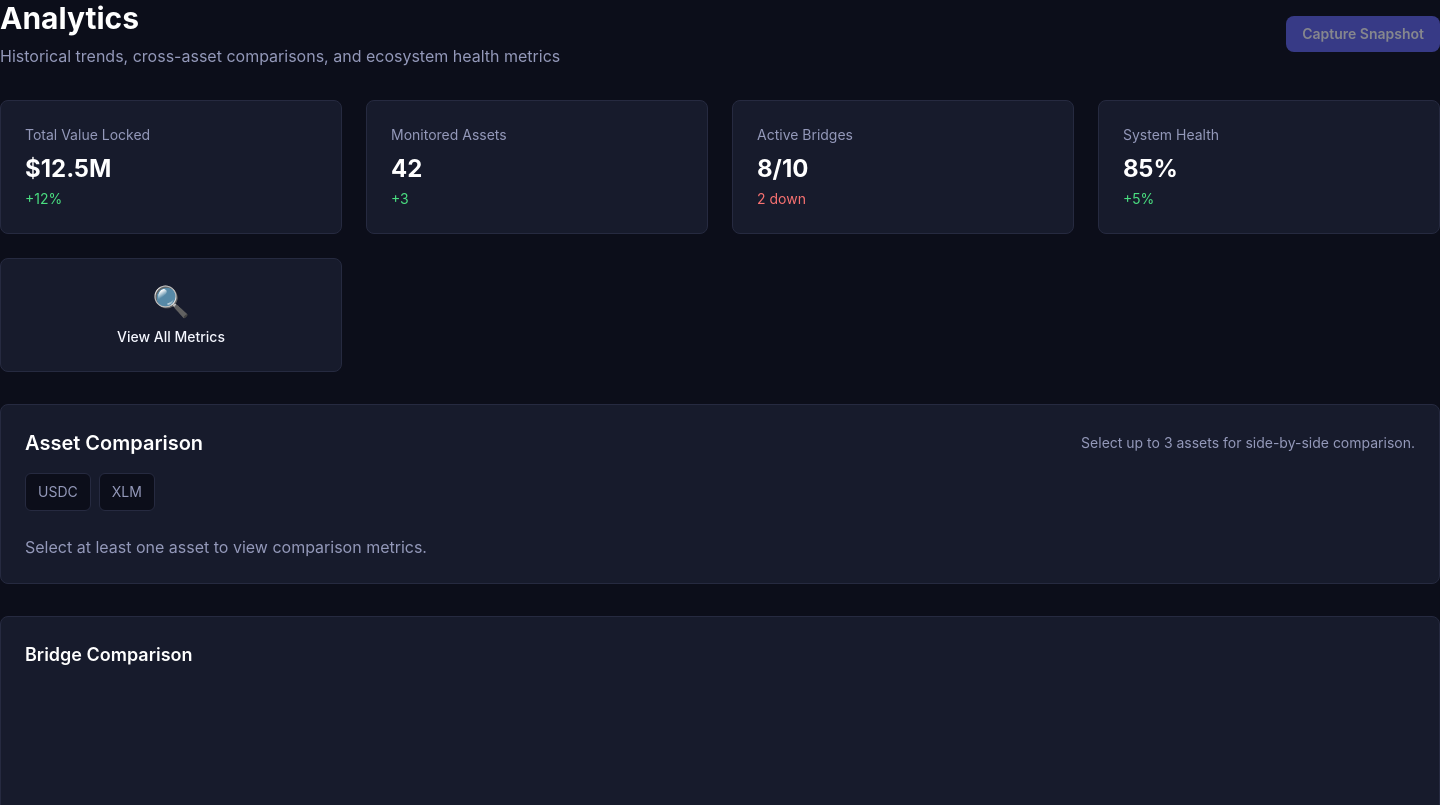
Test case: Analytics › renders comparison cards for selected assets
The width and height of the screenshot is (1440, 805).
Expected: the heading "Asset Comparison" is shown, [25,429,203,457]
Click the button "USDC" at (58, 492), box [25,473,91,511]
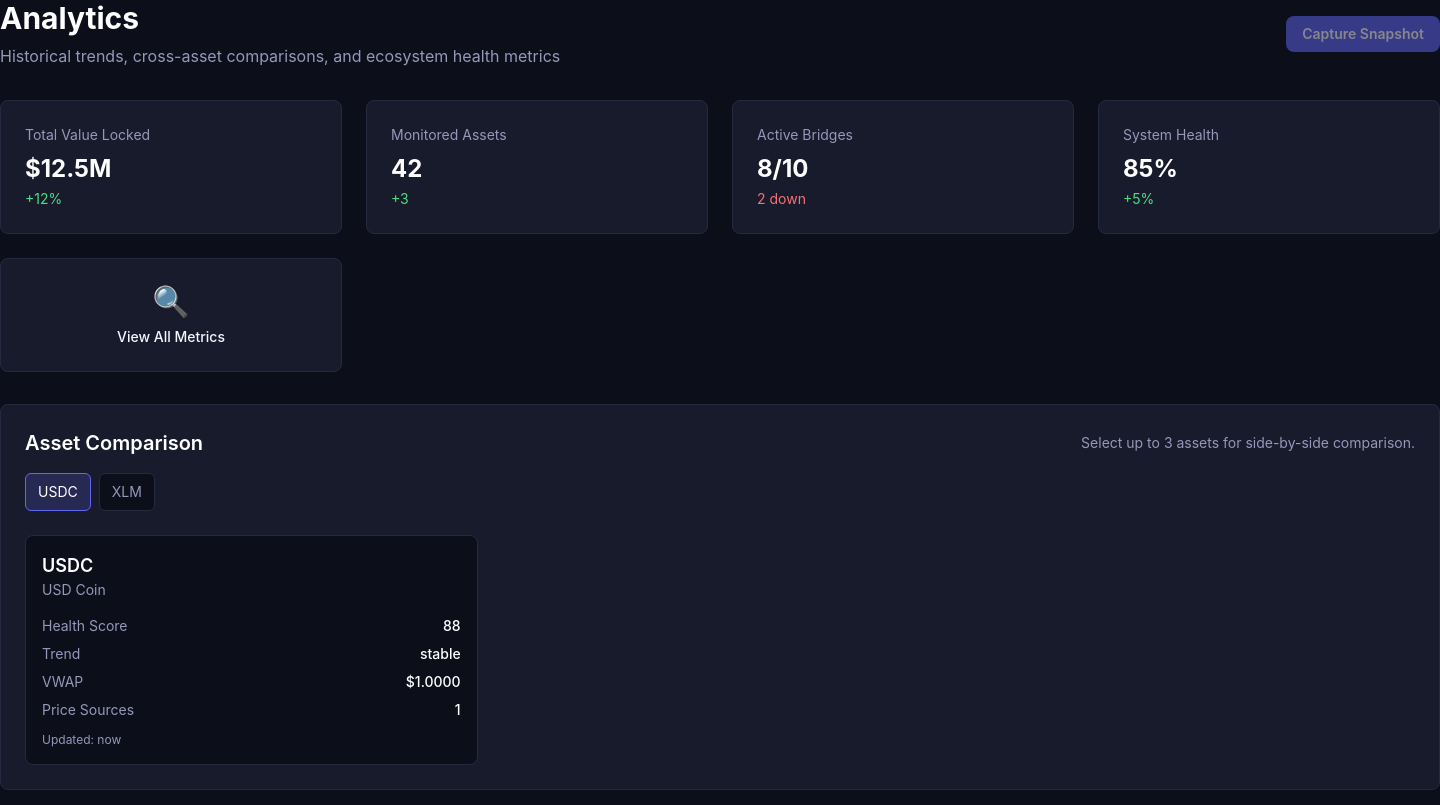
Click the button "XLM" at (127, 492), box [99,473,155,511]
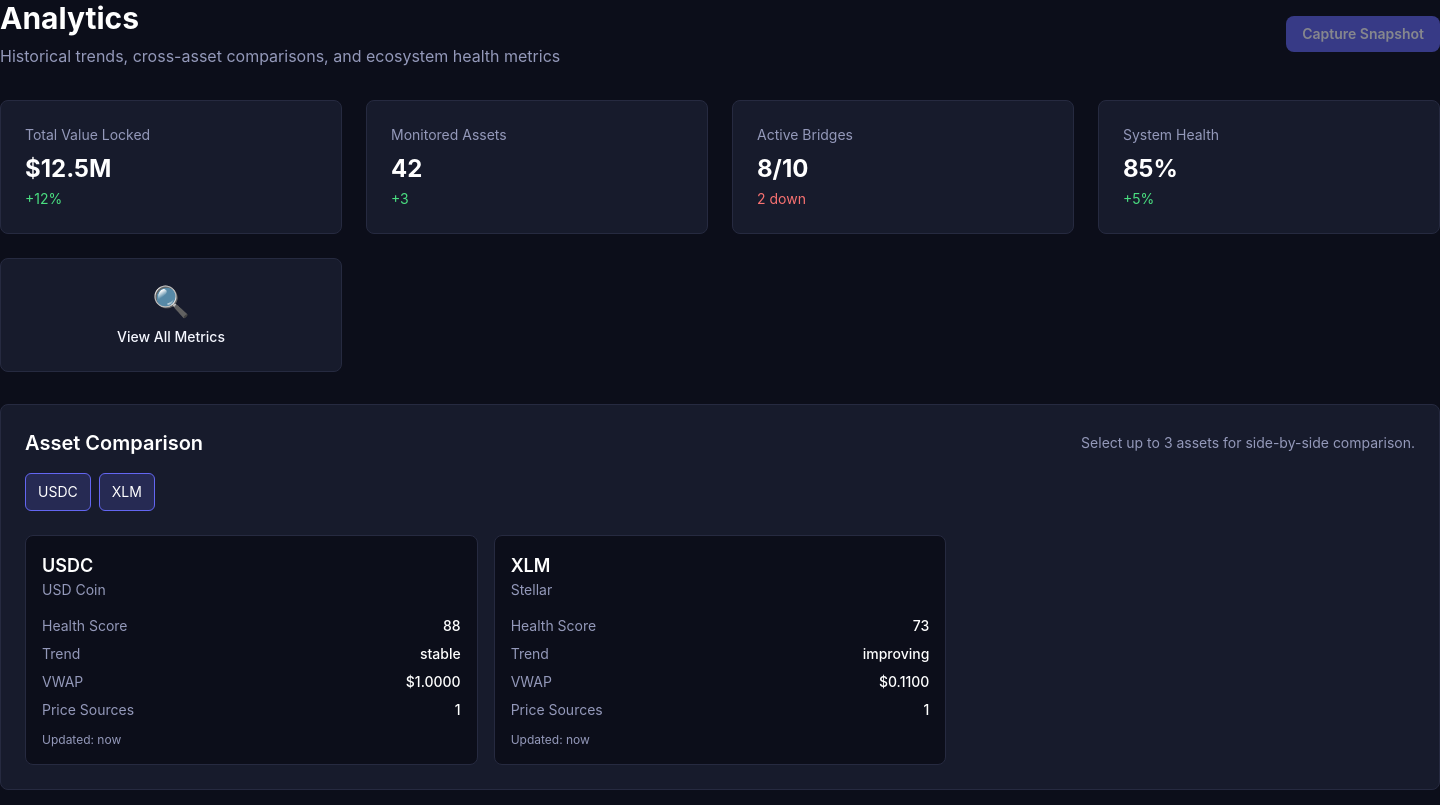
Expected: the text "Select up to 3 assets for side-by-side comparison." is shown, [1081,433,1415,453]
Expected: the element named "USDC comparison metrics" is shown, [25,535,478,765]
Expected: the element named "XLM comparison metrics" is shown, [494,535,946,765]
